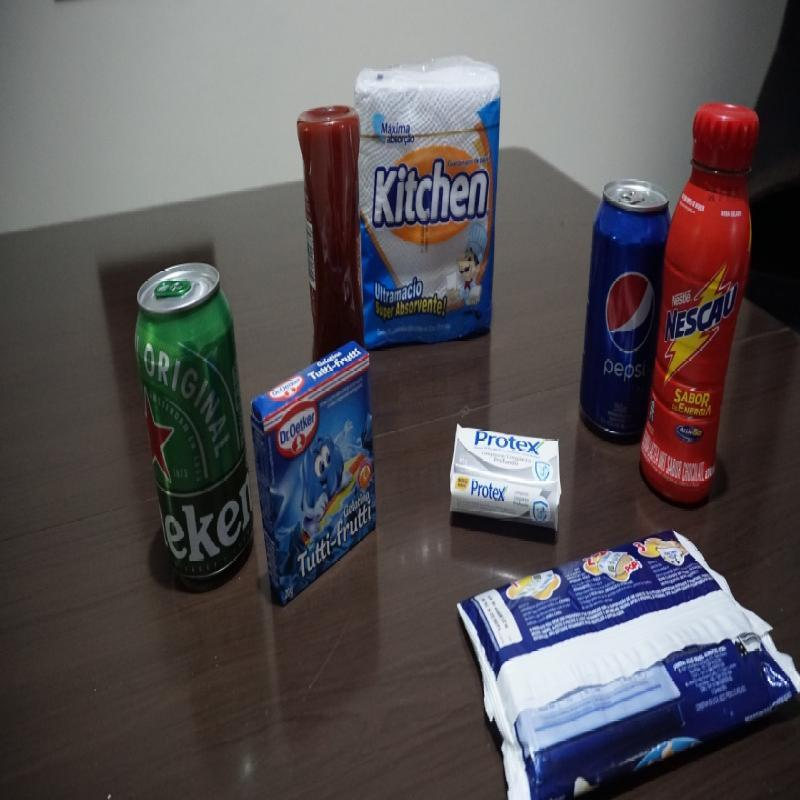Beer can: (133, 262, 254, 590)
Chocolate Milk: (639, 101, 758, 508)
Gelatine: (249, 339, 379, 608)
Ketchup: (297, 104, 362, 358)
Napkin: (354, 58, 503, 349)
Popcorn: (456, 528, 798, 798)
Soap: (448, 420, 564, 534)
Soda can: (578, 181, 671, 436)
